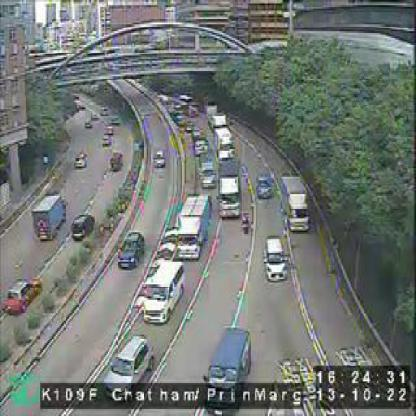Car: (202, 326, 252, 405), (102, 334, 155, 397), (142, 261, 186, 325), (3, 275, 42, 315), (264, 237, 288, 282), (117, 232, 146, 269), (70, 214, 94, 242), (199, 160, 218, 190), (256, 173, 272, 199), (110, 152, 124, 172), (154, 149, 167, 169), (74, 153, 88, 170), (194, 139, 206, 156), (102, 135, 112, 147)
Truck: (176, 194, 212, 263), (32, 194, 65, 241), (219, 160, 242, 219), (286, 176, 309, 234), (216, 127, 236, 162), (206, 108, 228, 130)
